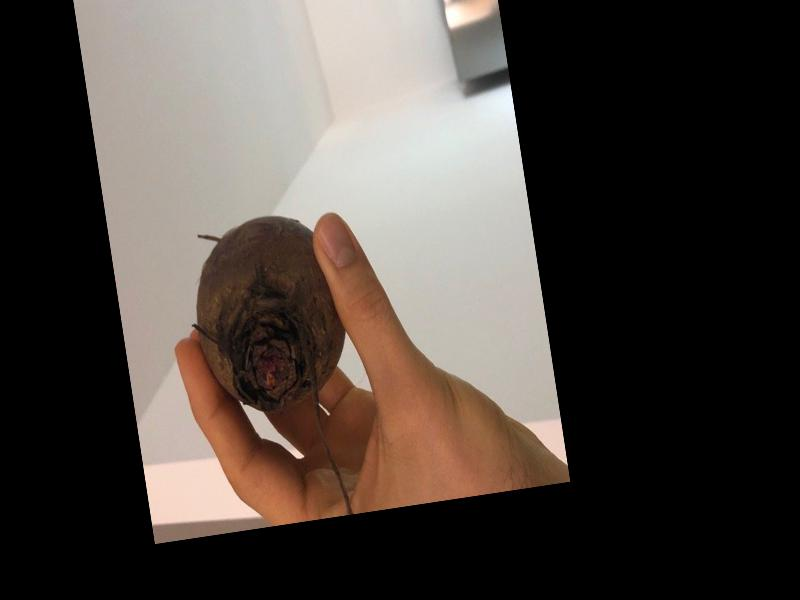Beet: (176, 205, 374, 531)
